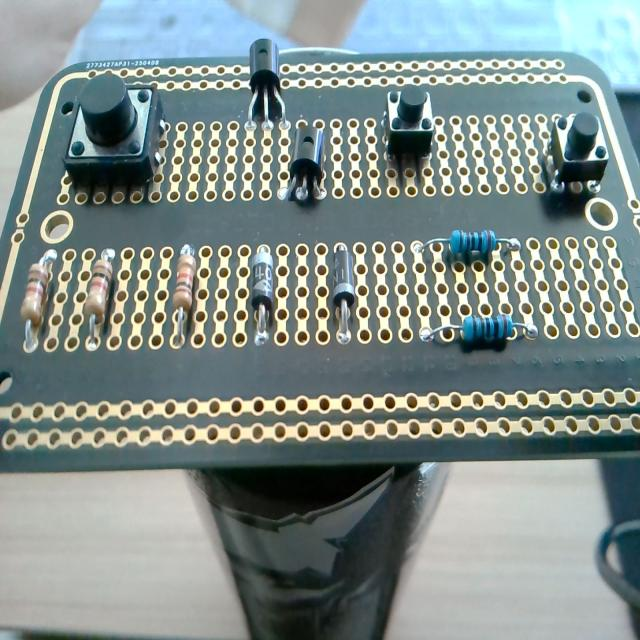diode: (251, 243, 276, 349), (332, 244, 356, 346)
resistor: (417, 230, 521, 264), (21, 248, 57, 346), (83, 245, 115, 352), (424, 314, 536, 344), (172, 243, 198, 347)
switch: (62, 75, 166, 198), (549, 110, 608, 188), (382, 86, 436, 168)
transistor: (281, 122, 327, 204), (246, 39, 286, 132)
